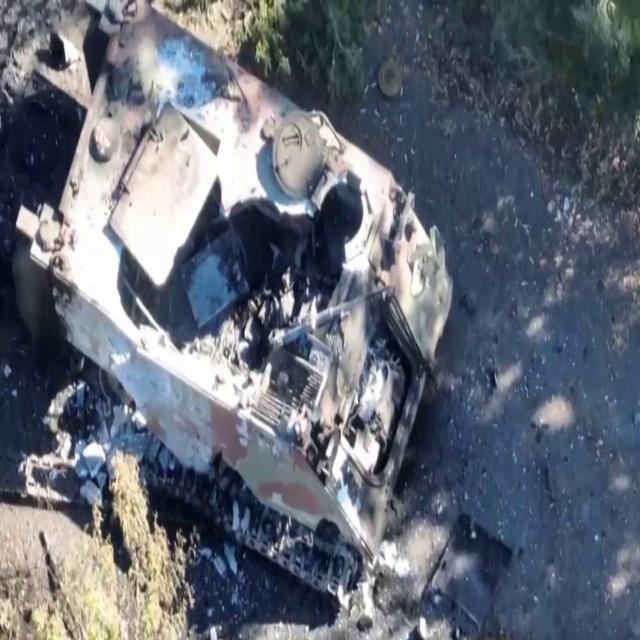Destroyed: (23, 3, 457, 627)
